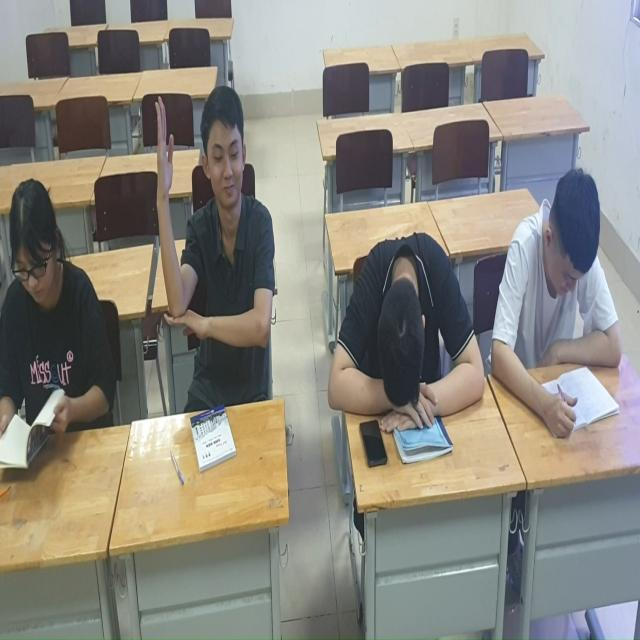raise_hand: (154, 77, 285, 399)
read: (485, 126, 635, 431), (1, 161, 128, 459)
sleep: (329, 212, 486, 451)
